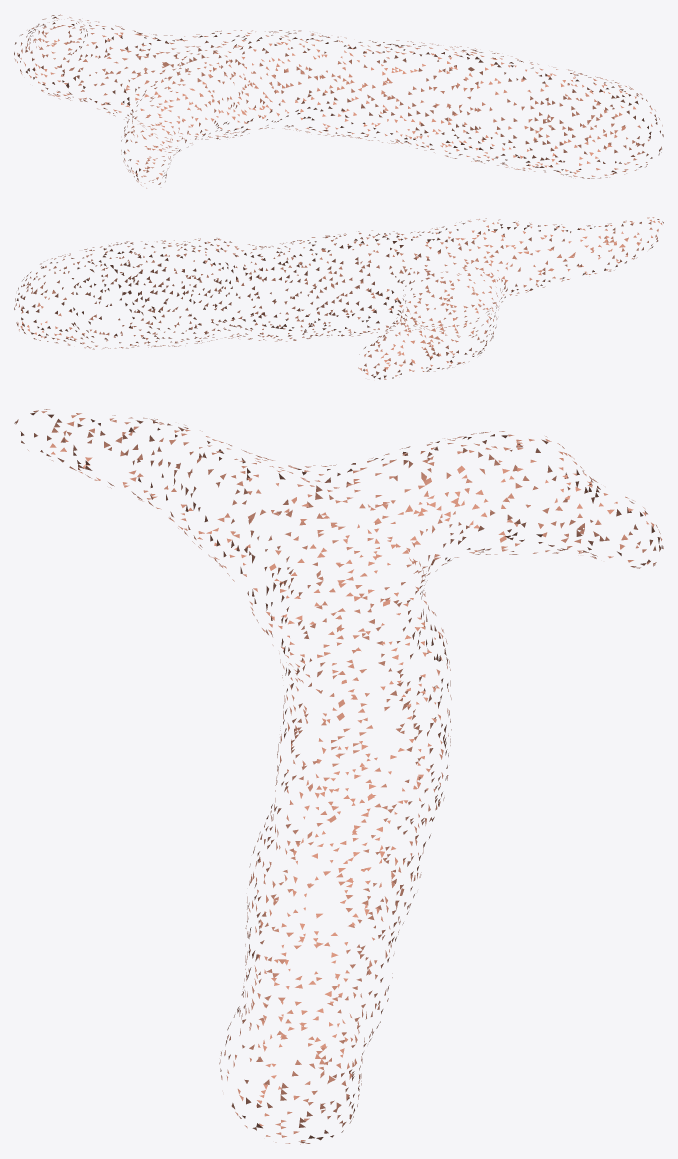
File: morph_003.glb
3 renders of one model, top to bottom at view 1: azimuth 30°, elevation 25°; view 2: azimuth 150°, elevation 25°; view 3: azimuth 270°, elevation 25°, orthographic. The views are drawn at different scales.
Bounding box in the file's own units: 107 × 37.6 × 65.51.
